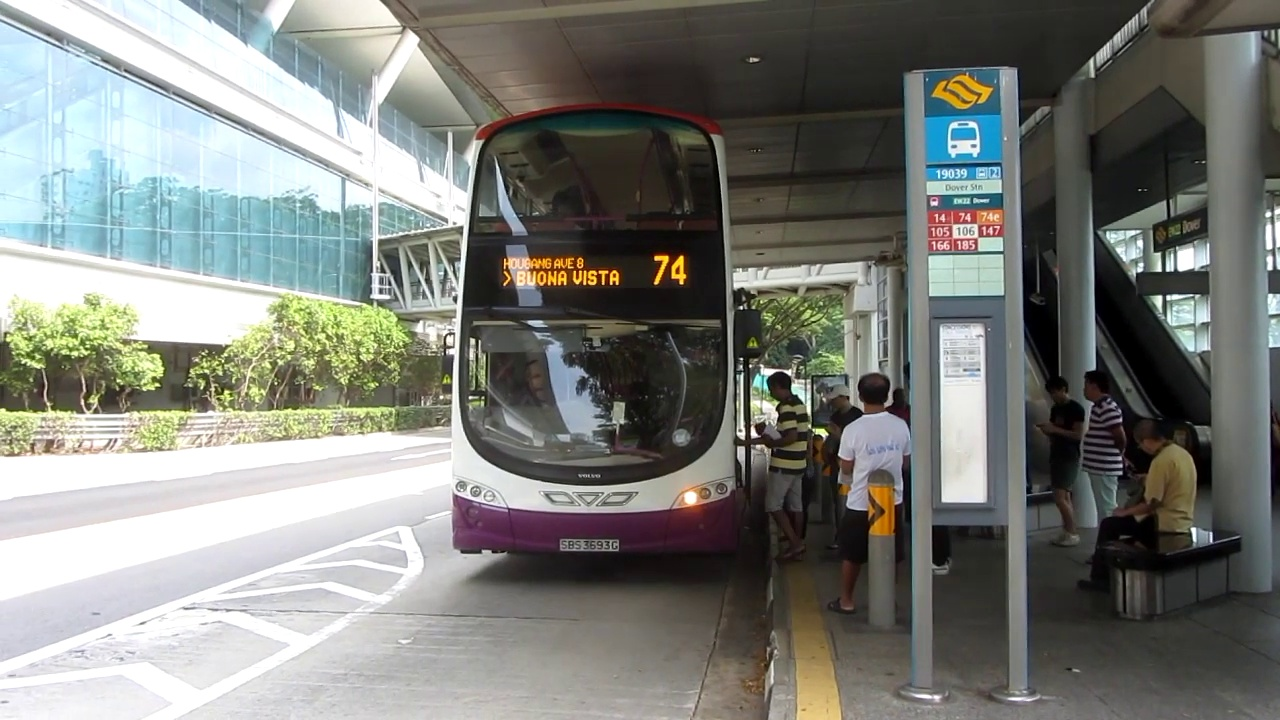bus panel: (495, 251, 694, 291)
